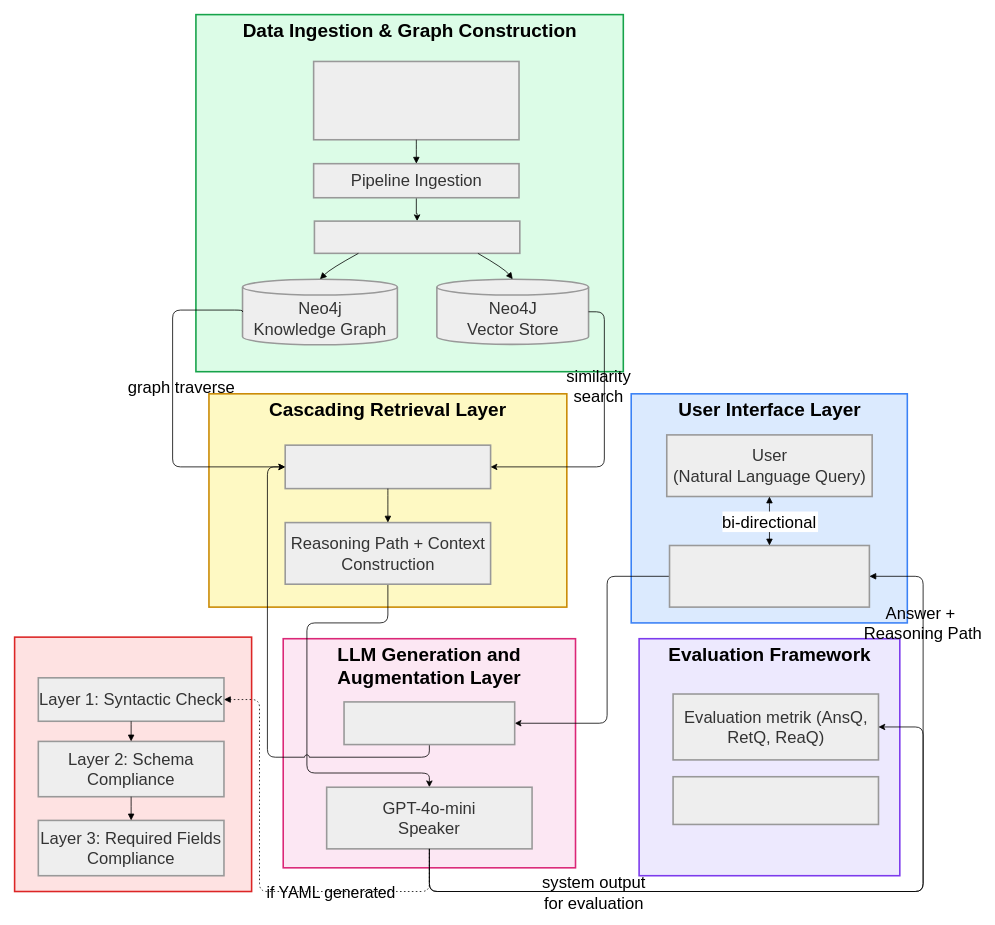
Image size: 995x925. Some labels were removed from this diagram. Here are the shapes that lost their labels. From the top down, the box of each, then its label:
(312, 60, 519, 140): Kubernetes OpenAPI swagger.json v1.30 (definitions only)
(313, 220, 520, 254): Graph Construction
(284, 444, 491, 489): Retrieval Bertingkat
(668, 544, 870, 608): Streamlit Web UI main.py
(343, 701, 515, 745): GPT-4o-mini Thinker
(13, 636, 252, 892): YAML Validation
(672, 776, 879, 825): Ablation Study
